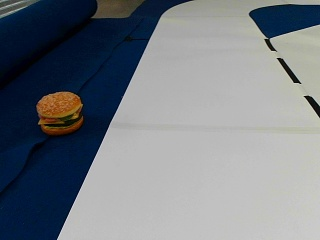burger: (35, 89, 84, 134)
